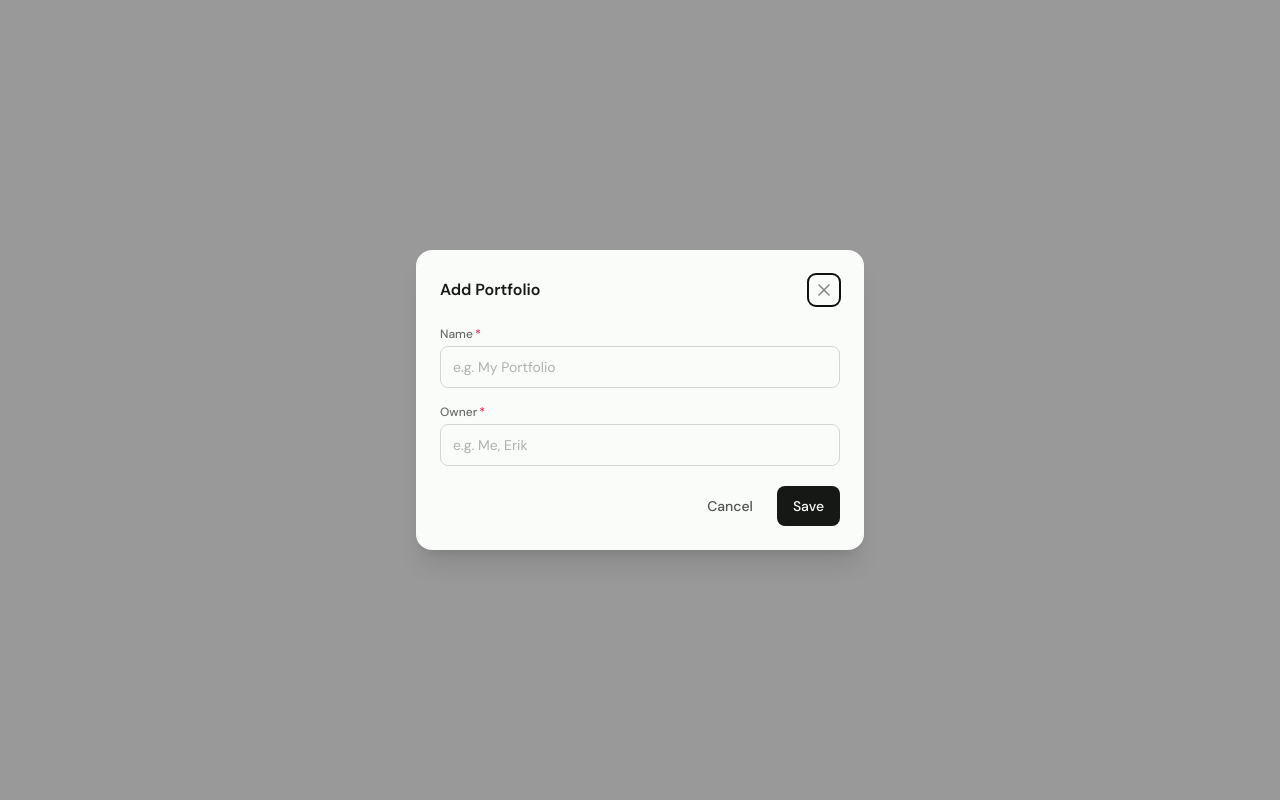
Test: PortfolioDialog › Validation › shows error when saving with empty owner
This screenshot has width=1280, height=800.
Type "Test Portfolio" into the field with placeholder "e.g. My Portfolio" at (640, 367), box [440,346,840,388]
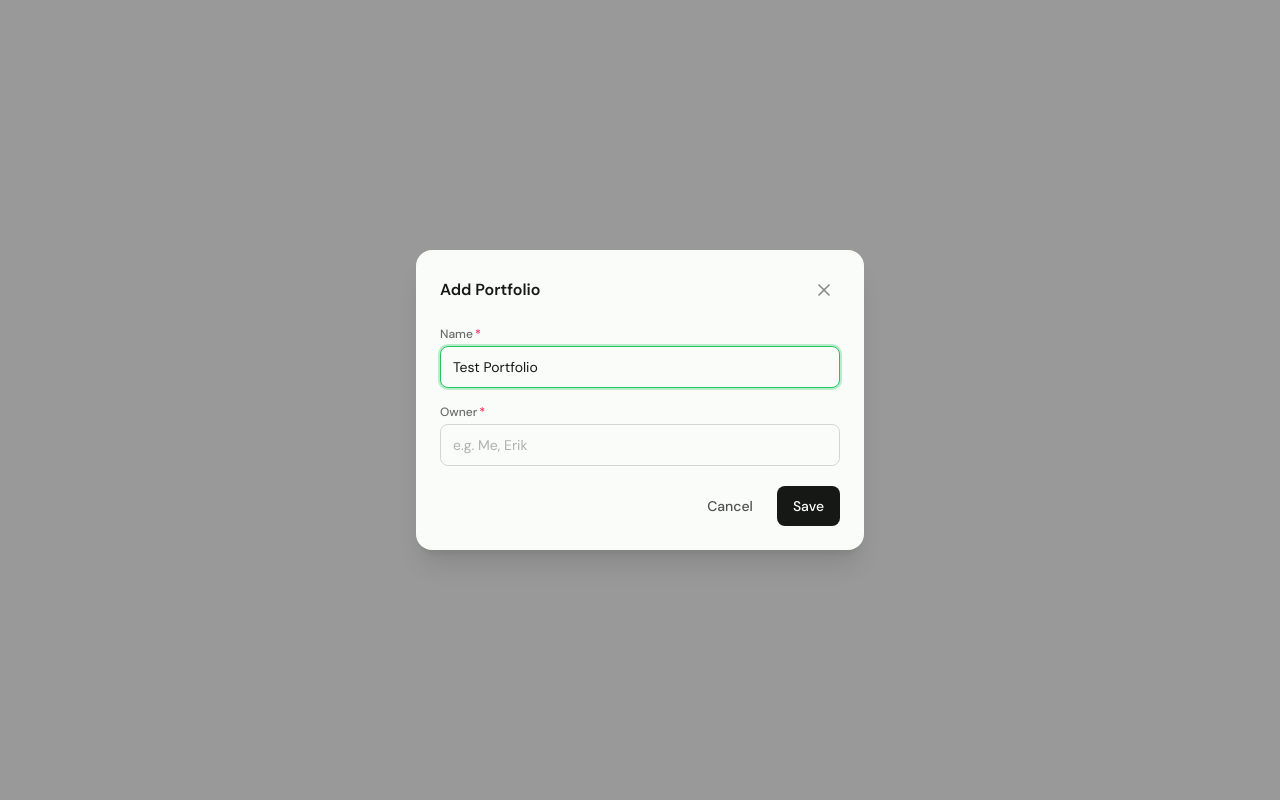
Click the button "Save" at (808, 506), box [777,486,840,526]
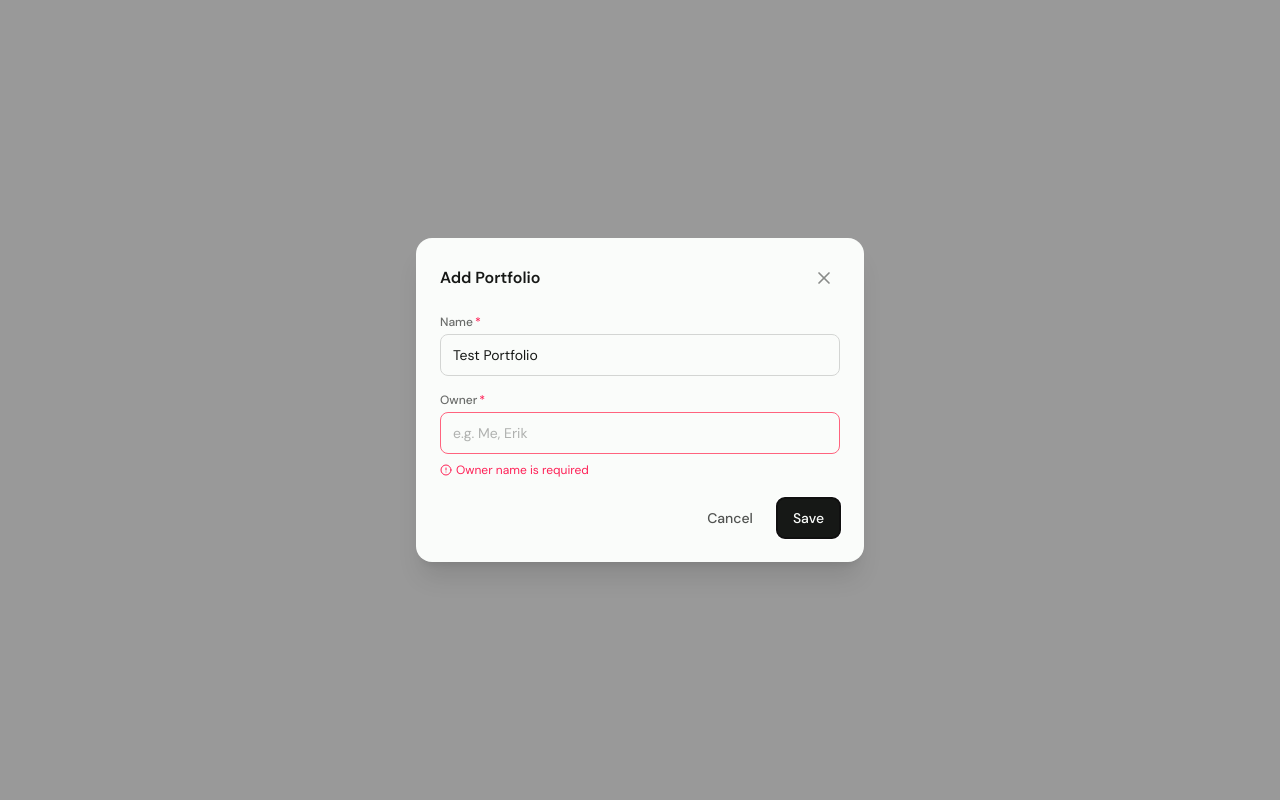
Expected: the text "Owner name is required" is shown, [440,462,589,478]
